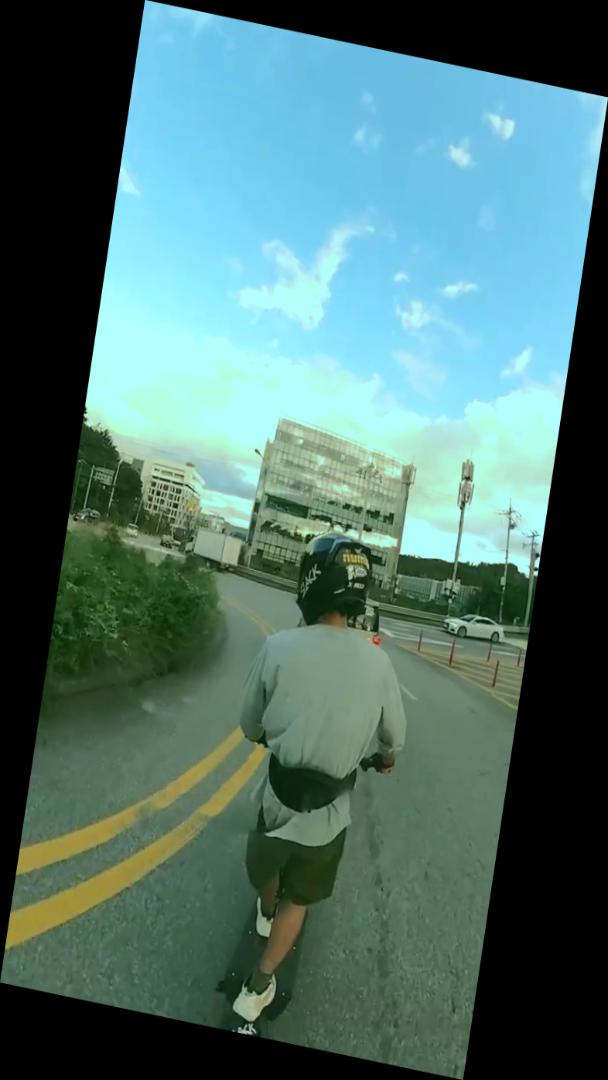helmet: (190, 514, 435, 1058)
